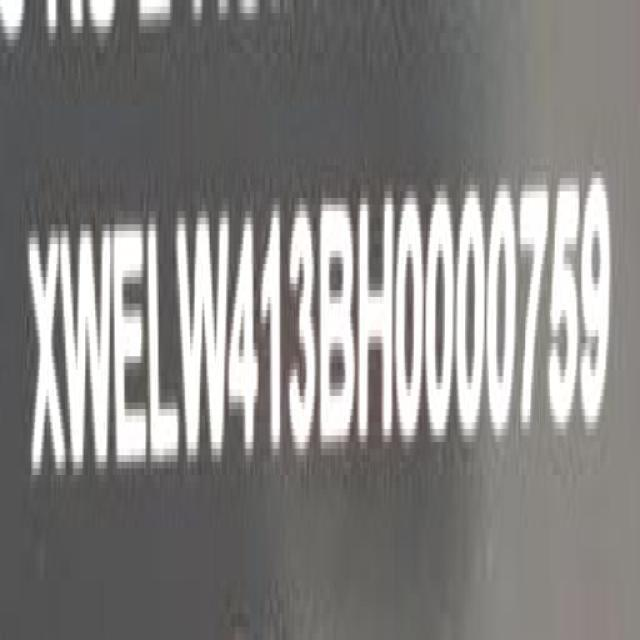0: (396, 187, 428, 450), (486, 180, 517, 446), (426, 183, 457, 446), (454, 180, 484, 444)
1: (260, 203, 285, 467)
3: (290, 199, 321, 461)
4: (227, 205, 258, 468)
5: (550, 170, 580, 435)
7: (518, 175, 550, 444)
9: (582, 176, 614, 434)
B: (320, 194, 357, 456)
E: (114, 216, 149, 482)
H: (358, 188, 396, 452)
L: (147, 216, 180, 478)
W: (176, 204, 228, 473), (63, 220, 115, 485)
X: (30, 225, 66, 492)
